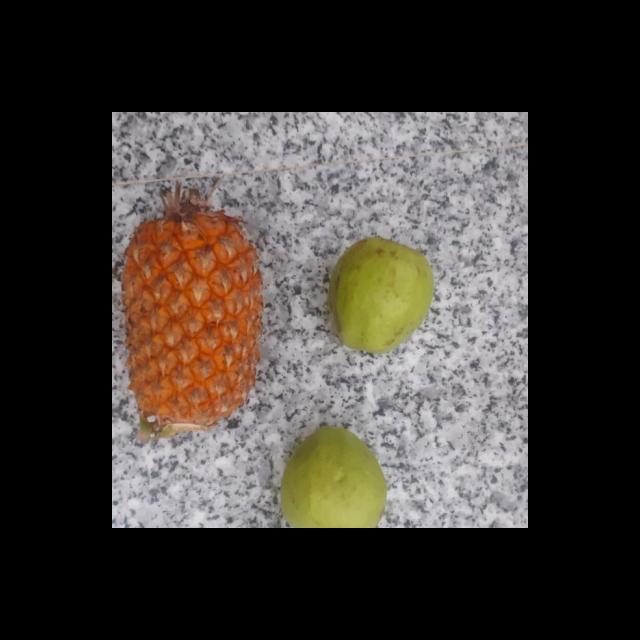guava: (320, 238, 430, 348), (276, 427, 389, 528)
pineapple: (120, 193, 260, 444)
